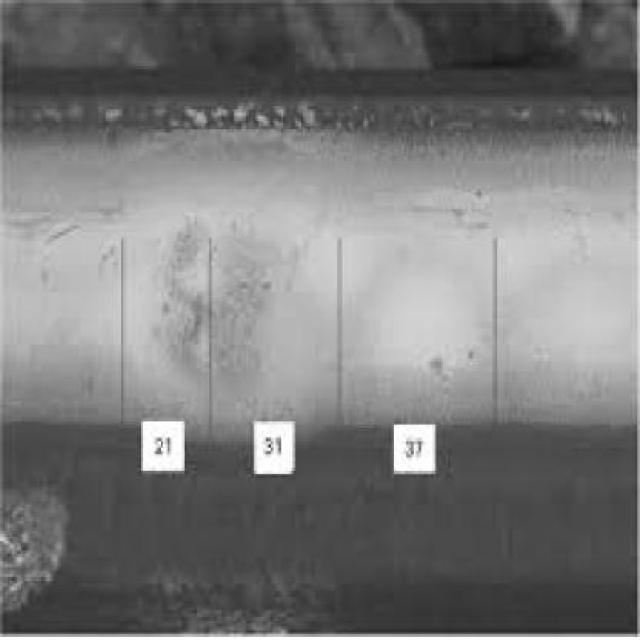defective: (58, 186, 595, 543)
